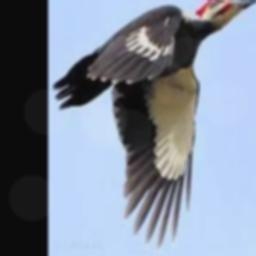Woodpecker: (52, 0, 256, 249)
